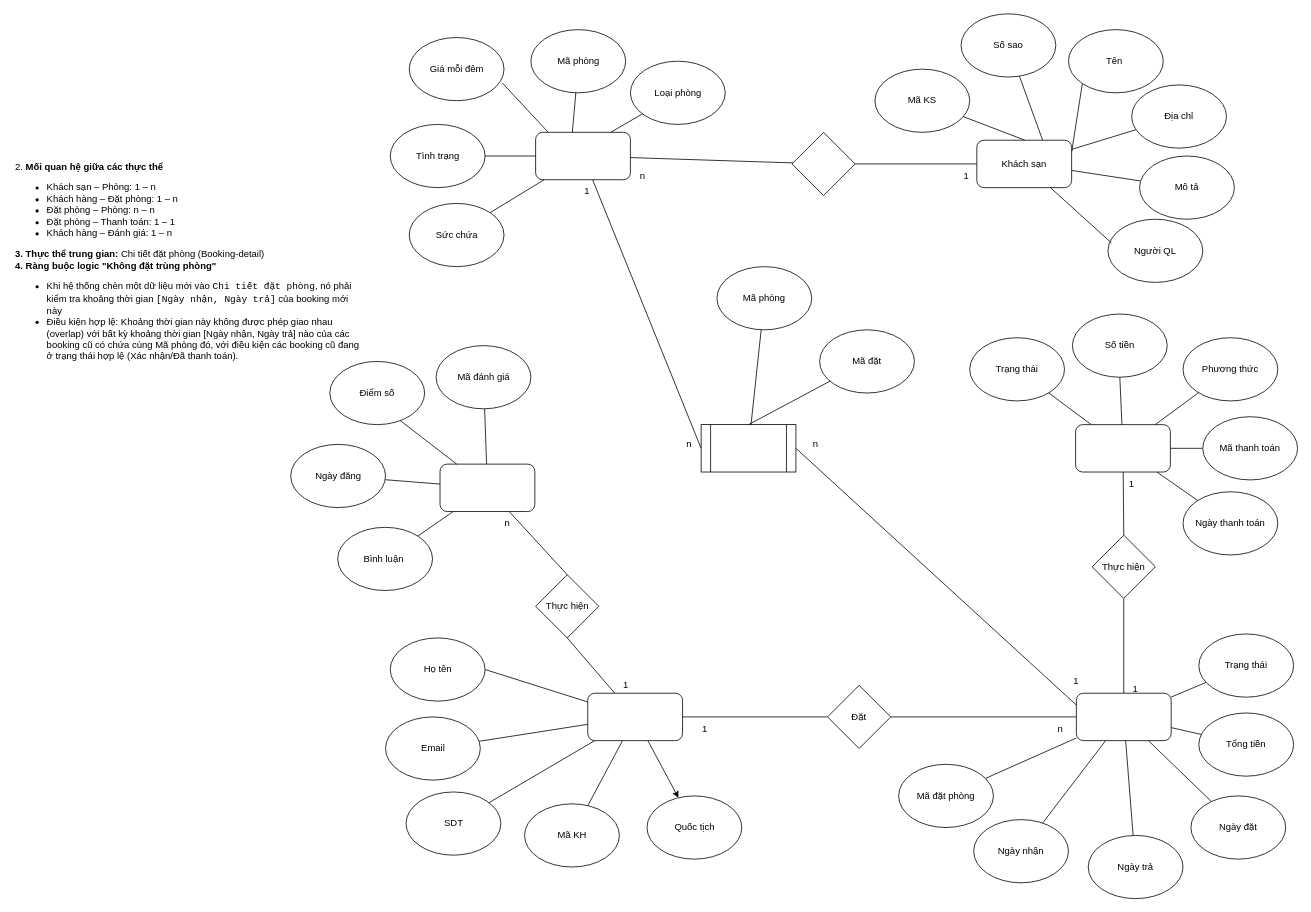
Some shapes in this 1311 by 912 pixel diagram are drawn without their labels. Here are the shapes that lost their labels. From the top down, the box of each, then its label:
(535, 132, 630, 180): Phòng
(791, 132, 855, 196): Gồm
(700, 424, 796, 472): Chi tiết đặt phòng
(1075, 424, 1170, 472): Thanh toán
(439, 463, 535, 512): Đánh giá
(587, 692, 683, 741): Khách hàng
(1076, 692, 1171, 741): Đặt phòng
